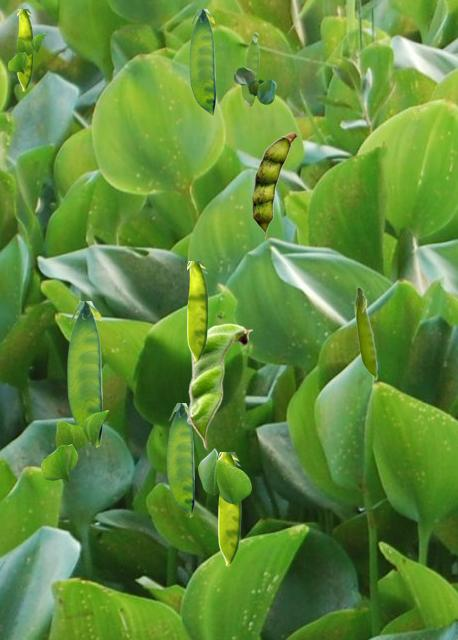pea: (186, 323, 252, 449), (67, 301, 101, 446), (252, 132, 296, 238), (167, 403, 193, 516), (189, 9, 214, 115), (218, 452, 240, 565), (354, 286, 377, 380), (187, 261, 207, 361), (241, 32, 258, 106), (17, 9, 32, 90)
